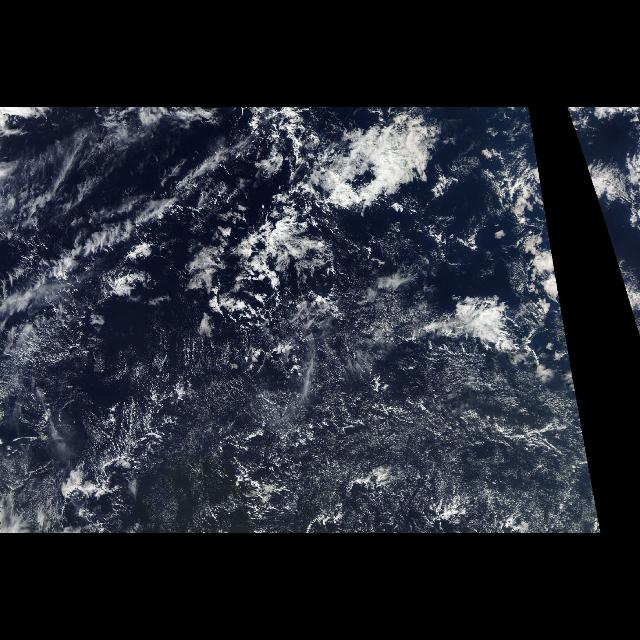Gravel: (74, 109, 448, 533)
Sugar: (21, 333, 592, 499)
